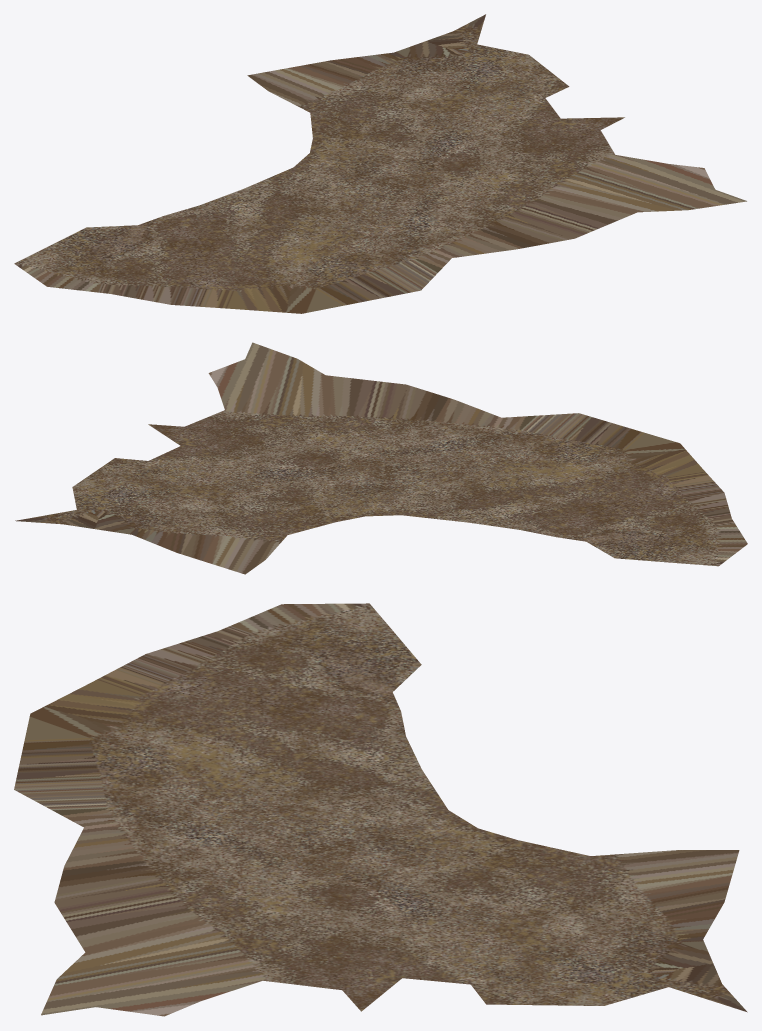
Rendered from suelo_t_4.obj.
3 views of the same model, one above another, from view 1: azimuth 30°, elevation 25°; view 2: azimuth 150°, elevation 25°; view 3: azimuth 270°, elevation 25° (orthographic). The views are drawn at different scales.
Visible parts, largest first — view 1: suelo_t_4; view 2: suelo_t_4; view 3: suelo_t_4.
Part boxes in pixels (<box>): suelo_t_4: <box>14,14,746,313</box>; suelo_t_4: <box>15,342,747,574</box>; suelo_t_4: <box>14,603,747,1016</box>.
Size of the model in its own units: 413 by 0 by 310.
